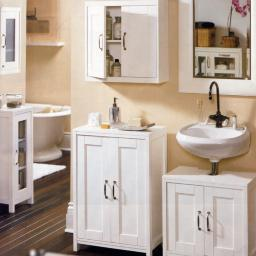Armario: (76, 131, 155, 248), (2, 111, 33, 206)
Lavamanos: (180, 79, 249, 170)
